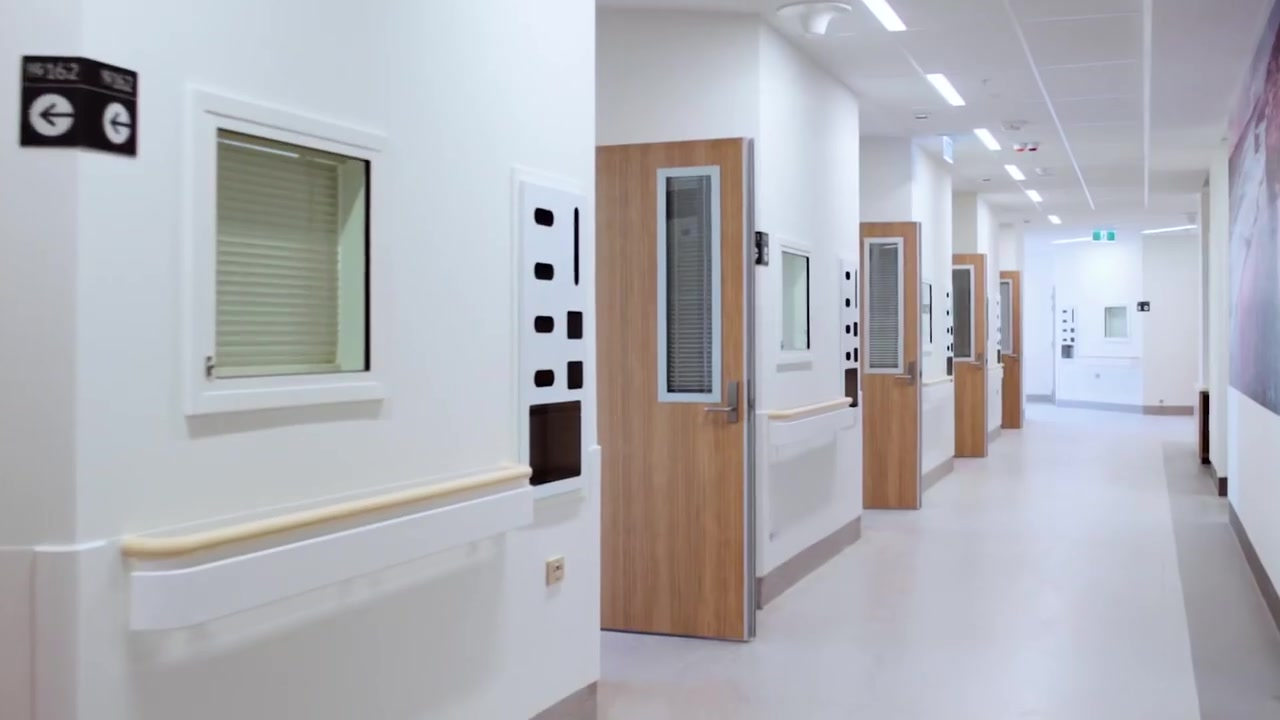door_handle: (703, 378, 743, 427), (892, 360, 917, 385), (967, 354, 982, 373)
hallway_assist_bar: (120, 461, 532, 552), (766, 395, 855, 421), (921, 374, 955, 388)
